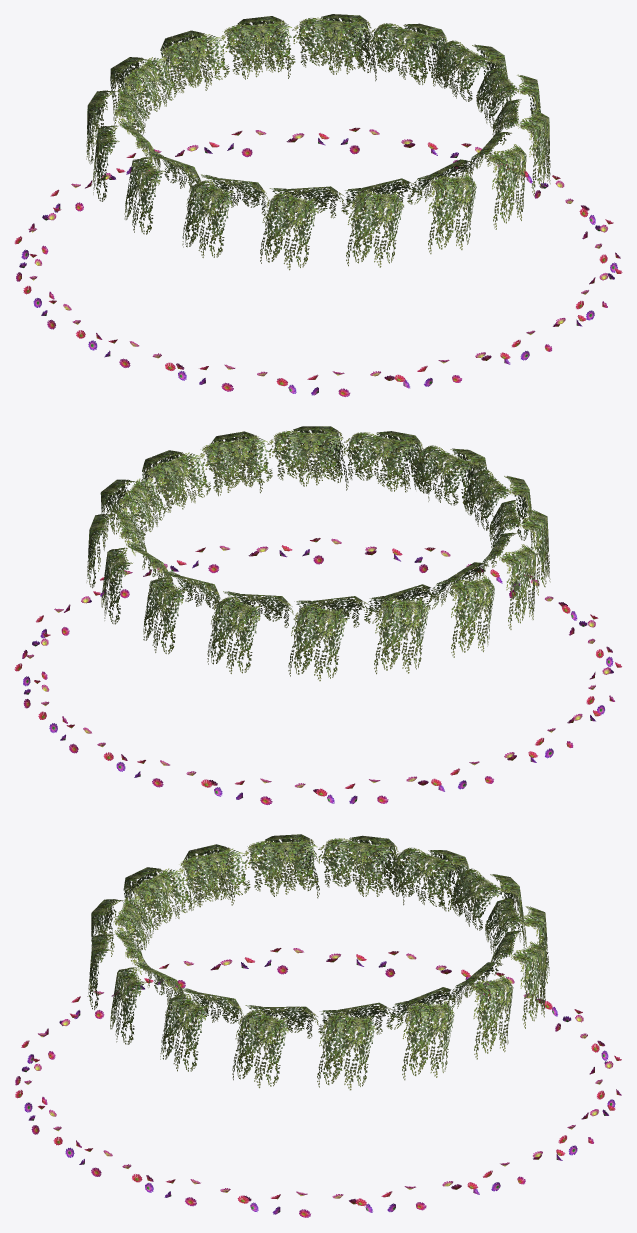
Rendered from TRANS_UDC_Fountain.obj.
3 renders of one model, top to bottom at view 1: azimuth 30°, elevation 25°; view 2: azimuth 150°, elevation 25°; view 3: azimuth 270°, elevation 25°, orthographic.
Parts seen in each view (by area): view 1: TRANS_UDC_Fountain; view 2: TRANS_UDC_Fountain; view 3: TRANS_UDC_Fountain.
Part boxes in pixels (x1,y1,x2,y2): TRANS_UDC_Fountain: [14, 14, 622, 396]; TRANS_UDC_Fountain: [14, 426, 621, 804]; TRANS_UDC_Fountain: [15, 834, 621, 1217].
Size of the model in its own units: 0.2656 by 0.0811 by 0.2656.
